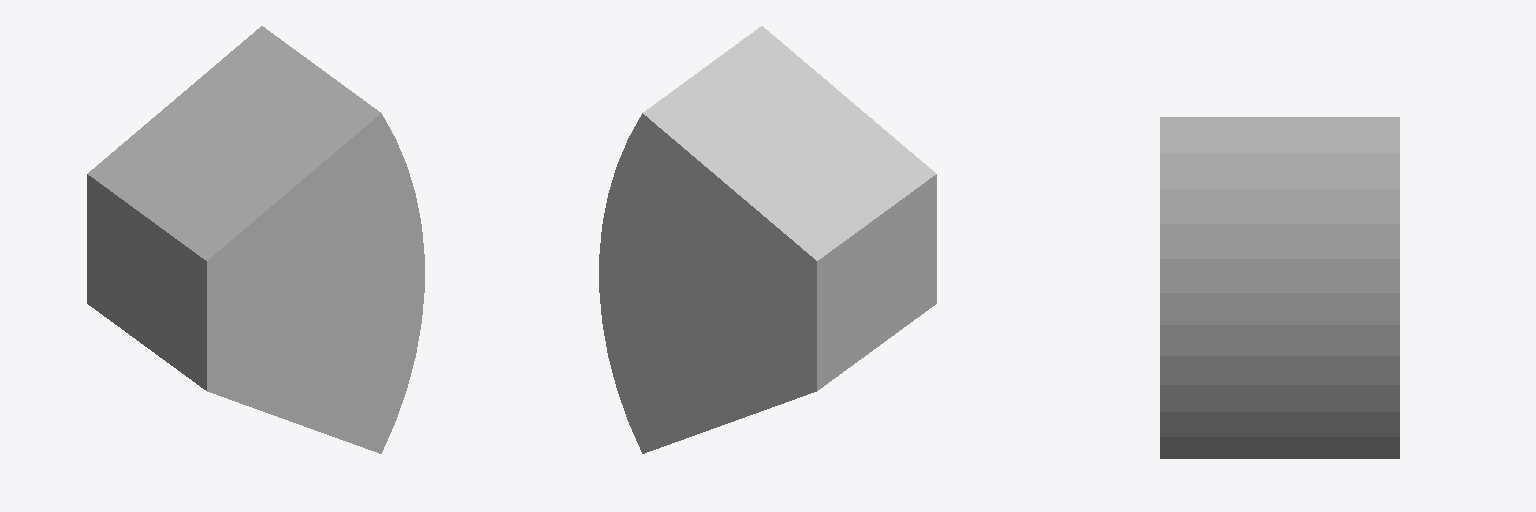
Rendered from round_hexagon_hole_3.obj.
The picture shows the model from 3 angles: view 1: azimuth 30°, elevation 25°; view 2: azimuth 150°, elevation 25°; view 3: azimuth 270°, elevation 25°; orthographic projection.
Parts seen in each view (by area): view 1: Body126; view 2: Body126; view 3: Body126.
Boxes of the visible parts, x1=… form: Body126: x1=87, y1=26, x2=424, y2=453; Body126: x1=599, y1=26, x2=936, y2=453; Body126: x1=1160, y1=117, x2=1399, y2=458.
Bounding box in the file's own units: 0.0421 × 0.063 × 0.04.